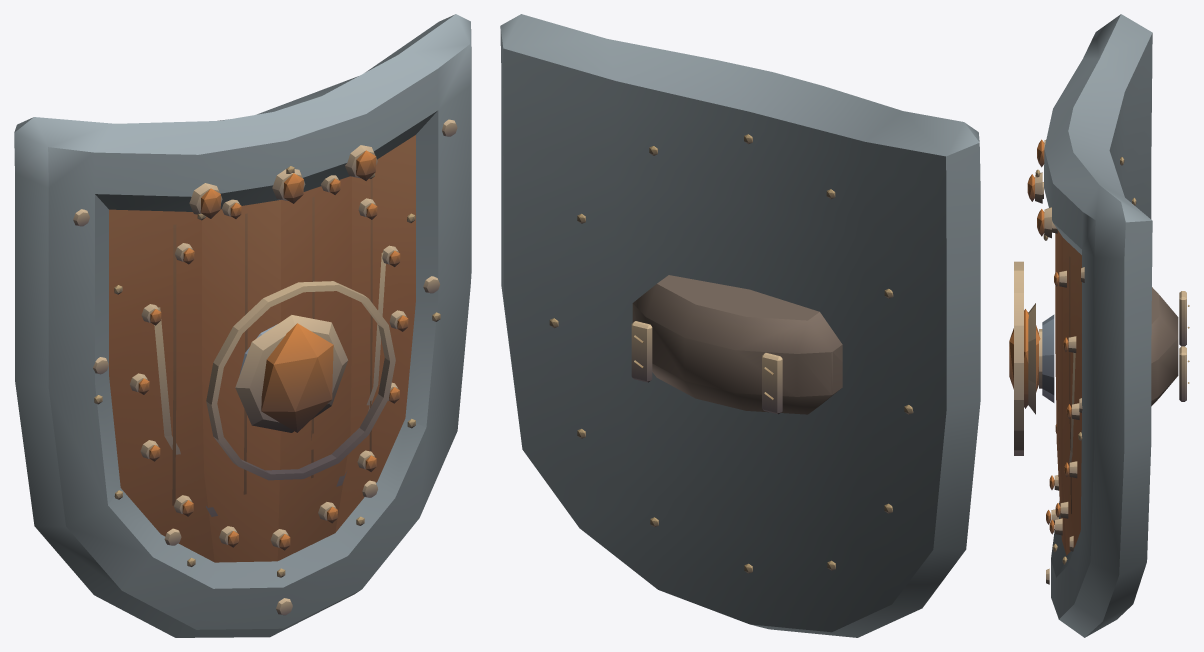
The model's file is escudo_runico_t5.glb.
The picture shows the model from 3 angles, left to right: view 1: azimuth 30°, elevation 25°; view 2: azimuth 150°, elevation 25°; view 3: azimuth 270°, elevation 25°; orthographic projection. The views are drawn at different scales.
Visible parts, largest first — view 1: escudo_runico_t5_finished; view 2: escudo_runico_t5_finished; view 3: escudo_runico_t5_finished.
Boxes of the visible parts, x1,y1,x2,y2 form: escudo_runico_t5_finished: (14, 14, 471, 637); escudo_runico_t5_finished: (500, 14, 980, 637); escudo_runico_t5_finished: (1009, 14, 1189, 637).
Size of the model in its own units: 0.8826 by 1.02 by 0.3306.
Materials: 2 (2 with a texture image).
